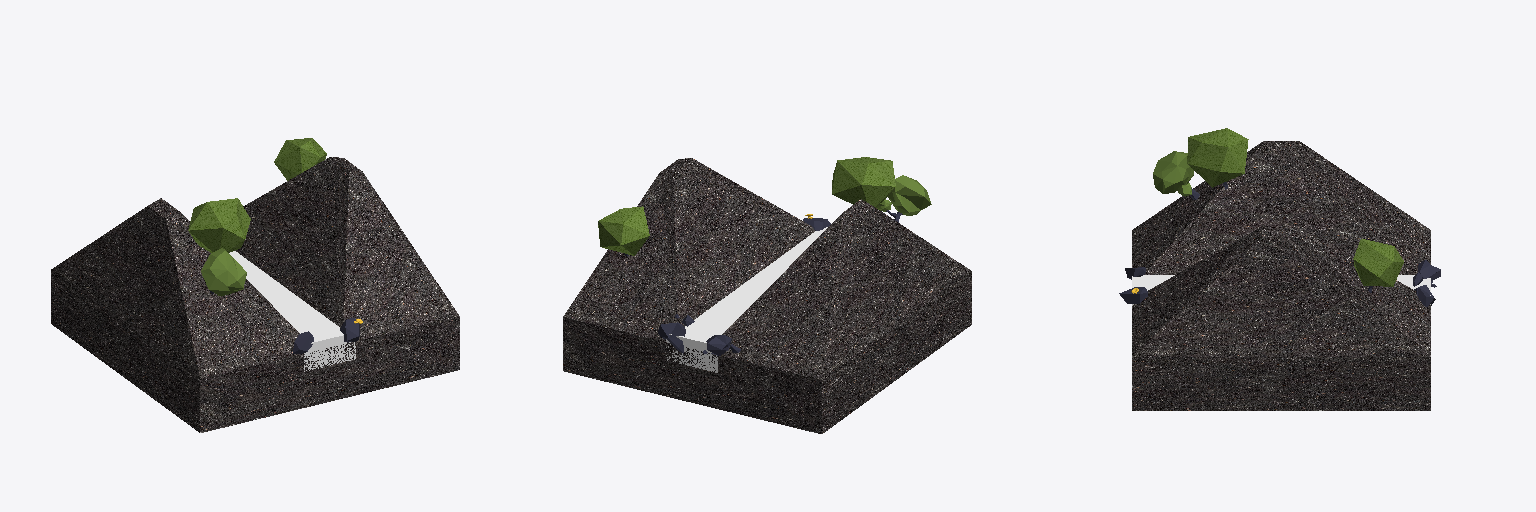
The picture shows the model from 3 angles: view 1: azimuth 30°, elevation 25°; view 2: azimuth 150°, elevation 25°; view 3: azimuth 270°, elevation 25°; orthographic projection.
Visible parts, largest first — view 1: 003_Box, 001_Box_1_&_water_&_water, 002_Box, 000_water, 010_Tree, 013_Crowns, 008_Tree; view 2: 002_Box, 003_Box, 001_Box_1_&_water_&_water, 000_water, 010_Tree, 008_Tree, 013_Crowns, 005_stone; view 3: 003_Box, 002_Box, 001_Box_1_&_water_&_water, 010_Tree, 008_Tree, 013_Crowns, 000_water.
Boxes of the visible parts, x1=… form: 003_Box: x1=235, y1=157, x2=458, y2=340; 001_Box_1_&_water_&_water: x1=51, y1=270, x2=459, y2=432; 002_Box: x1=51, y1=198, x2=303, y2=378; 000_water: x1=229, y1=251, x2=355, y2=371; 010_Tree: x1=188, y1=198, x2=250, y2=252; 013_Crowns: x1=201, y1=248, x2=246, y2=296; 008_Tree: x1=274, y1=138, x2=326, y2=180; 002_Box: x1=721, y1=199, x2=970, y2=379; 003_Box: x1=563, y1=158, x2=814, y2=341; 001_Box_1_&_water_&_water: x1=563, y1=271, x2=971, y2=433; 000_water: x1=666, y1=227, x2=827, y2=372; 010_Tree: x1=832, y1=157, x2=895, y2=207; 008_Tree: x1=598, y1=206, x2=649, y2=255; 013_Crowns: x1=876, y1=175, x2=931, y2=215; 005_stone: x1=658, y1=314, x2=694, y2=353; 003_Box: x1=1132, y1=226, x2=1430, y2=356; 002_Box: x1=1132, y1=141, x2=1430, y2=274; 001_Box_1_&_water_&_water: x1=1132, y1=357, x2=1430, y2=410; 010_Tree: x1=1187, y1=128, x2=1248, y2=187; 008_Tree: x1=1353, y1=239, x2=1403, y2=286; 013_Crowns: x1=1153, y1=151, x2=1193, y2=196; 000_water: x1=1132, y1=275, x2=1430, y2=305.
Bounding box in the file's own units: 100 × 67.55 × 108.
Materials: 13 (3 with a texture image).